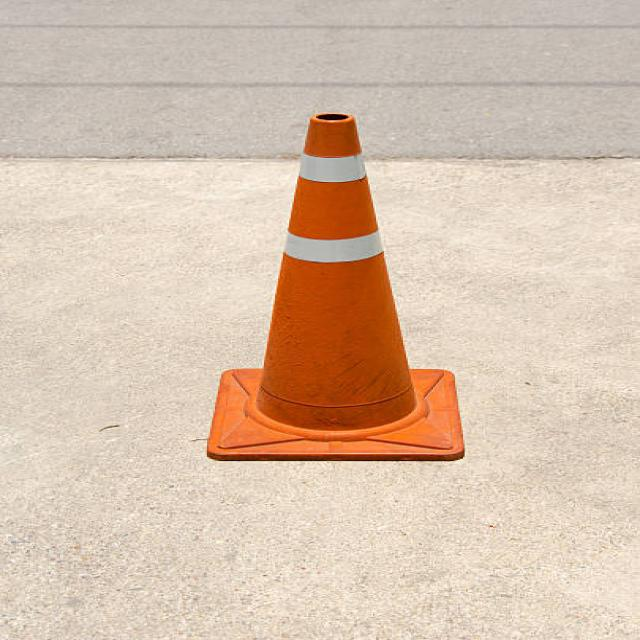Traffic Cone: (163, 85, 511, 481)
